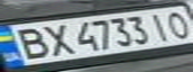3: (124, 12, 154, 45), (109, 15, 136, 47)
4: (72, 18, 96, 52)
7: (90, 17, 115, 51)
B: (3, 25, 54, 61)
I: (145, 10, 175, 42)
O: (160, 8, 193, 39)
X: (33, 20, 75, 57)
